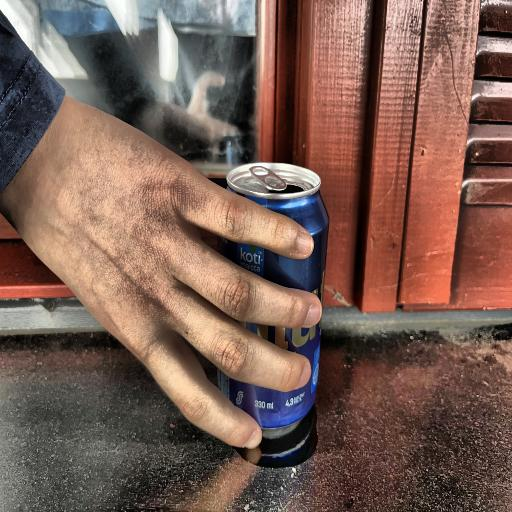koti: (223, 170, 328, 443)
